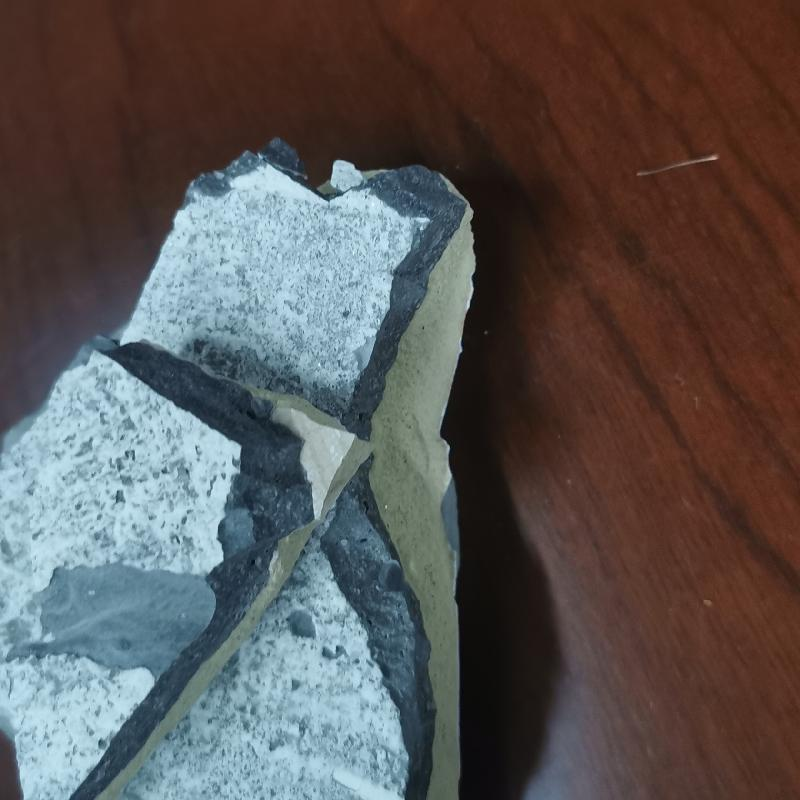tile: (0, 134, 485, 799)
